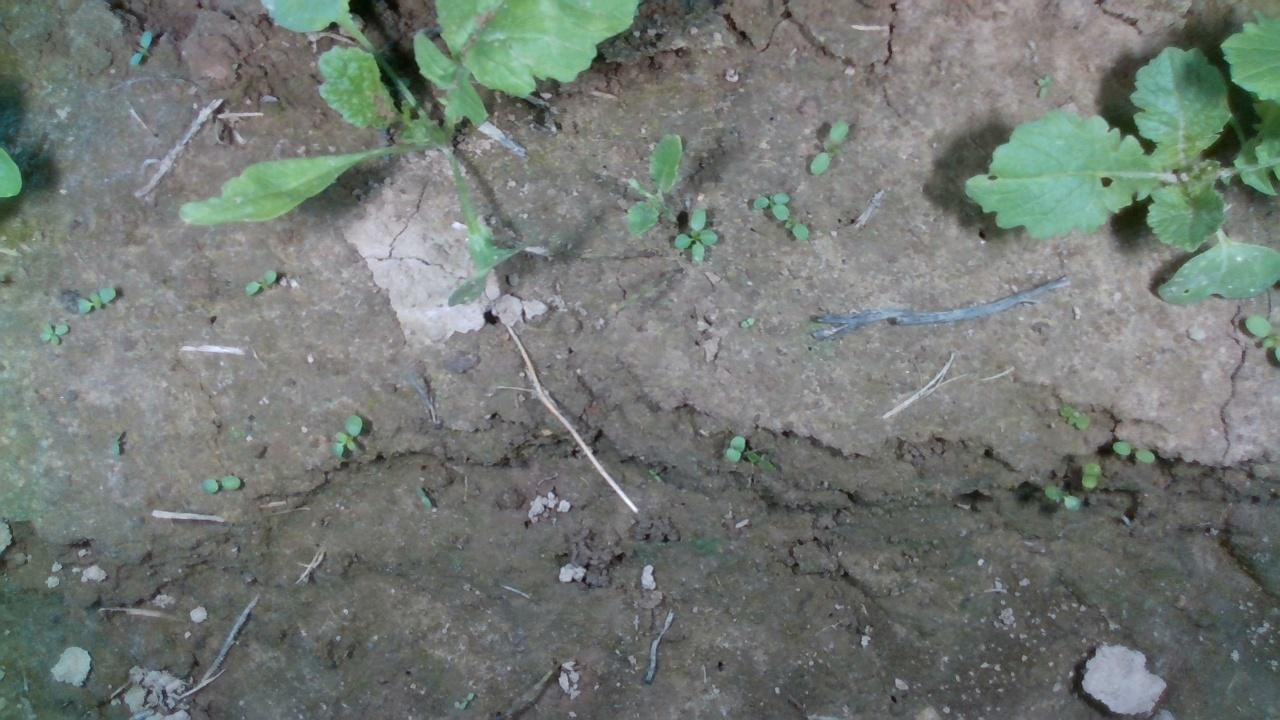weed: (669, 205, 719, 263), (806, 115, 850, 177), (328, 411, 363, 460), (75, 283, 116, 317), (239, 266, 276, 296), (1040, 485, 1081, 512), (1110, 439, 1156, 462), (1056, 401, 1090, 431), (197, 473, 242, 495), (36, 320, 71, 346), (743, 446, 778, 472), (1079, 458, 1101, 489), (722, 434, 745, 463)
